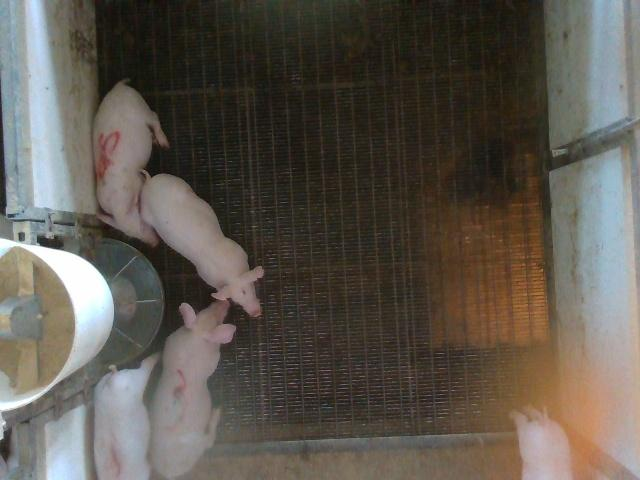pig-1: (94, 352, 160, 478)
pig-3: (150, 300, 235, 477)
pig-5: (94, 80, 169, 246)
